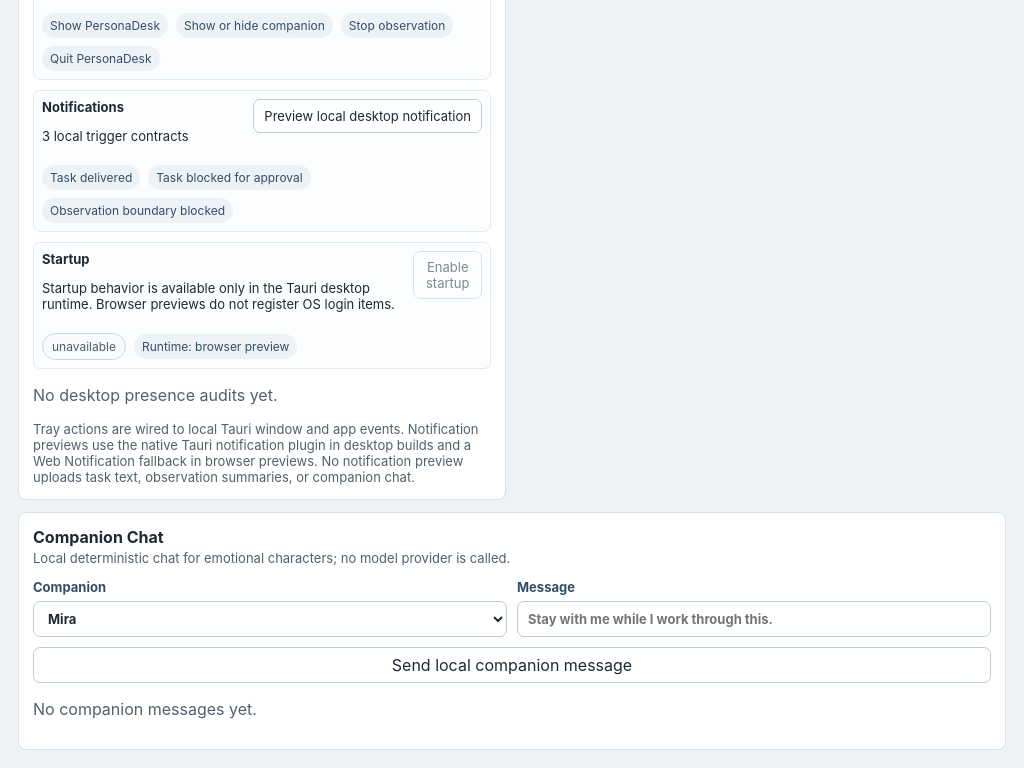
Scenario: PersonaDesk app › can exchange local deterministic companion messages on the desktop stage
(page scrolled)
Type "Can you stay with me while I review this?" into the field labelled "Message".
click(754, 619); type("Can you stay with me while I review this?")  # box [517,601,991,637]
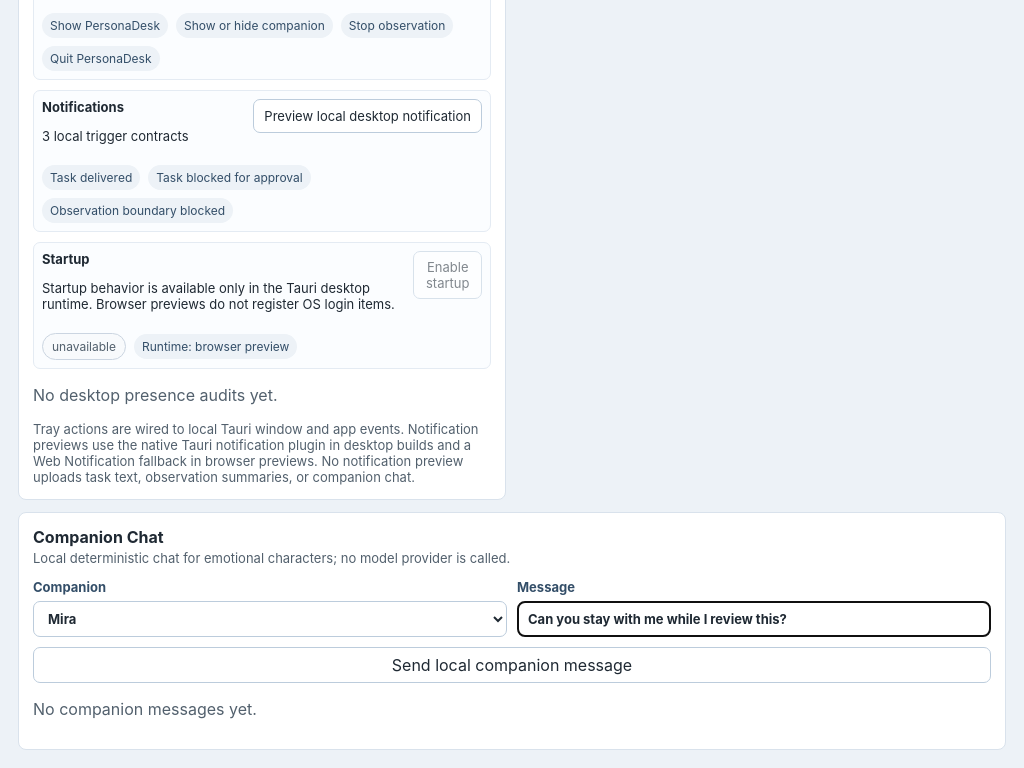
Click the button "Send local companion message".
click(512, 665)  # box [33,647,991,683]
(page scrolled)
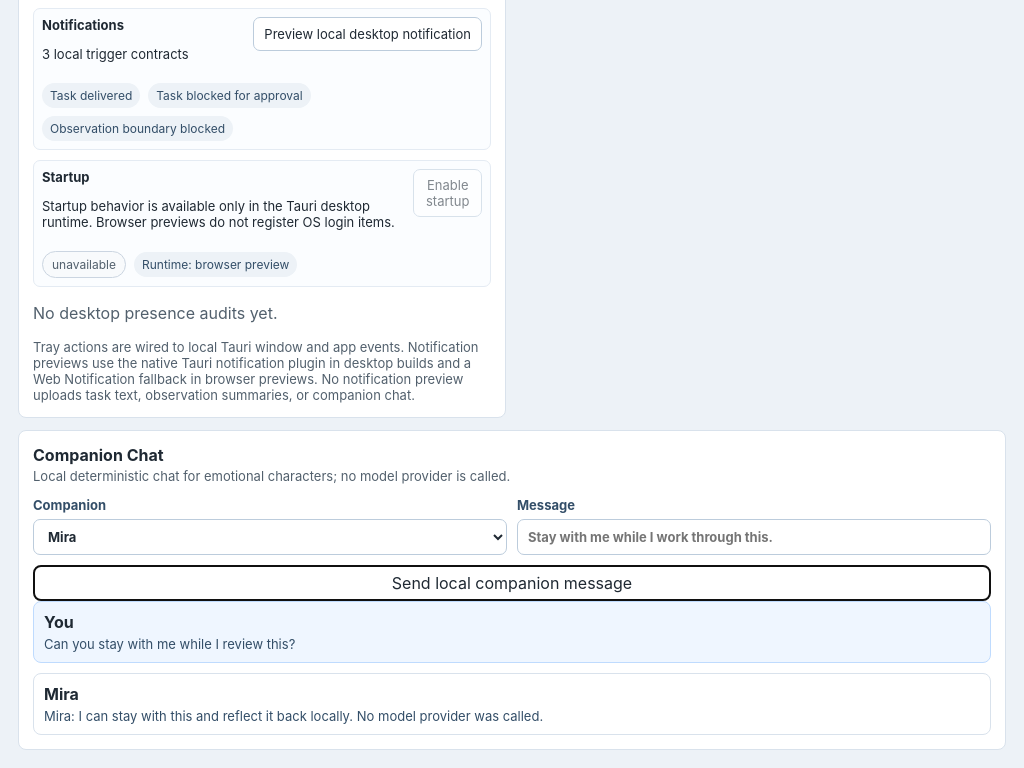
Check: the text "Can you stay with me while I review this?" is shown, box [44,636,295,652]
Check: the text "No model provider was called" is shown, box [44,708,543,724]
